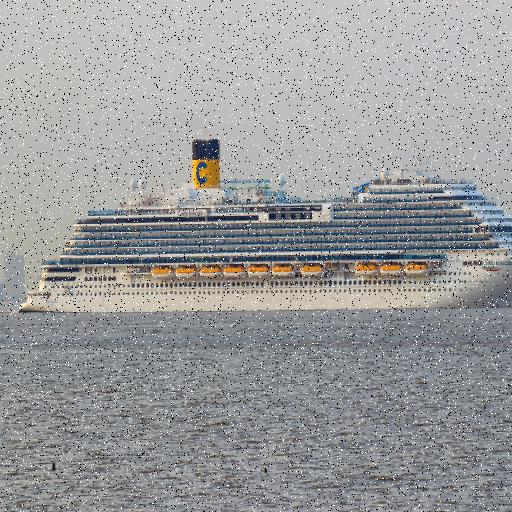cruises: (17, 122, 512, 323)
